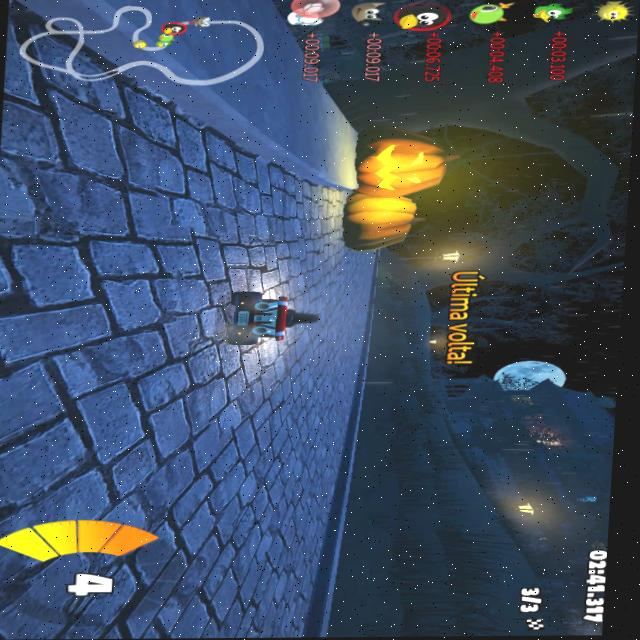obstacle: (342, 142, 442, 246)
player_kart: (222, 289, 316, 343)
track: (0, 120, 201, 640), (171, 343, 369, 553), (199, 186, 344, 289), (172, 551, 328, 638), (323, 256, 368, 348), (184, 290, 220, 344)
